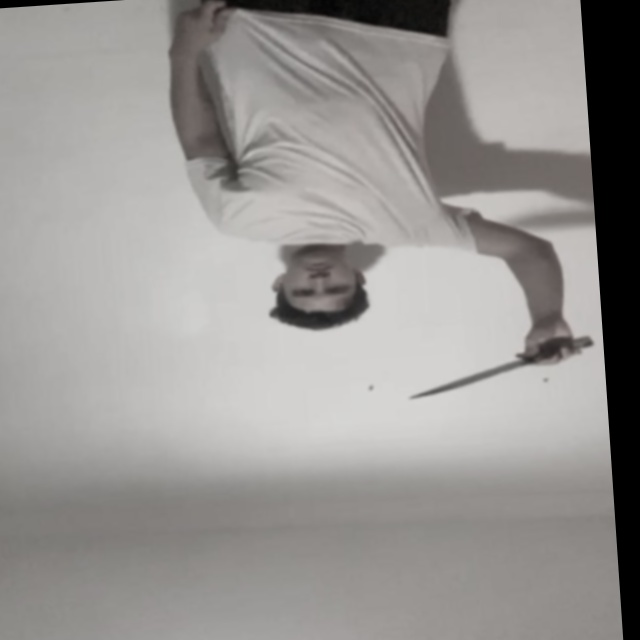Sharp-Object: (403, 363, 520, 400)
